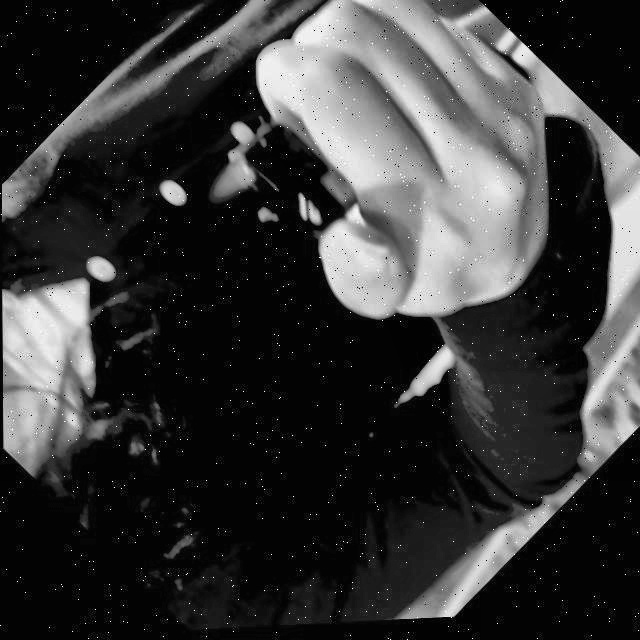Fire: (195, 153, 263, 224)
